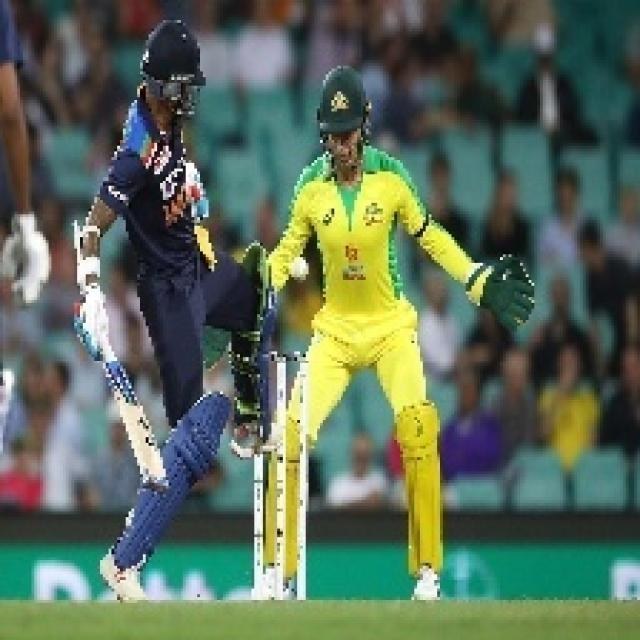batsman: (68, 9, 281, 600)
wicket: (237, 343, 331, 614)
